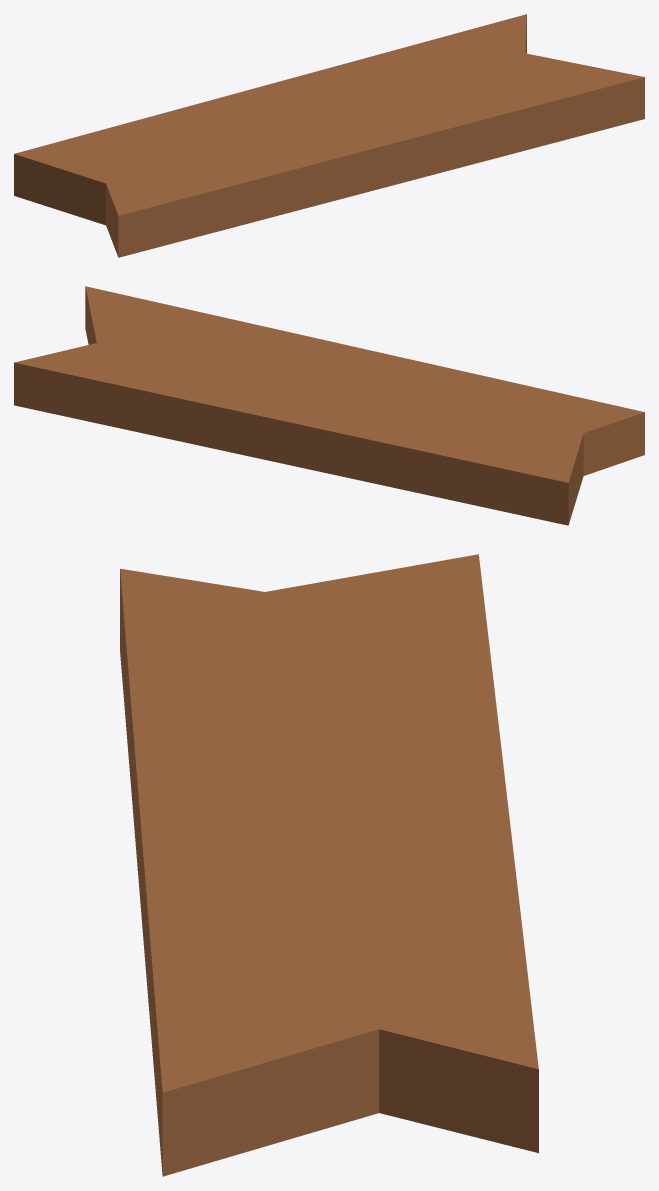
The model's file is Plank.FBX.
3 views of the same model, one above another, from view 1: azimuth 30°, elevation 25°; view 2: azimuth 150°, elevation 25°; view 3: azimuth 270°, elevation 25° (orthographic). The views are drawn at different scales.
Visible parts, largest first — view 1: Box125; view 2: Box125; view 3: Box125.
Boxes of the visible parts, bbox=[...] form: Box125: bbox=[14, 14, 644, 257]; Box125: bbox=[14, 286, 644, 525]; Box125: bbox=[120, 554, 538, 1176].
Size of the model in its own units: 7.16 by 0.52 by 2.35.
